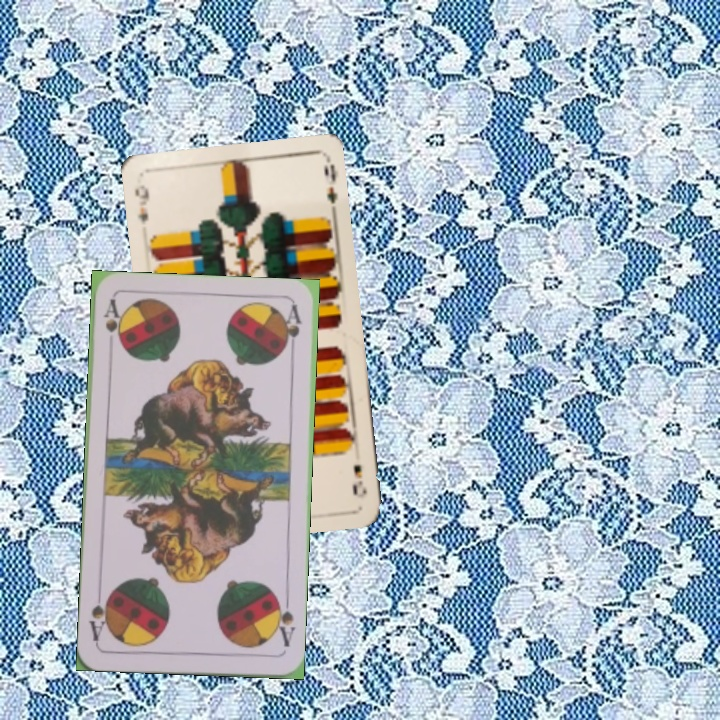E9: (130, 180, 152, 227), (348, 460, 370, 498)
SA: (270, 593, 297, 649), (100, 296, 124, 347)
